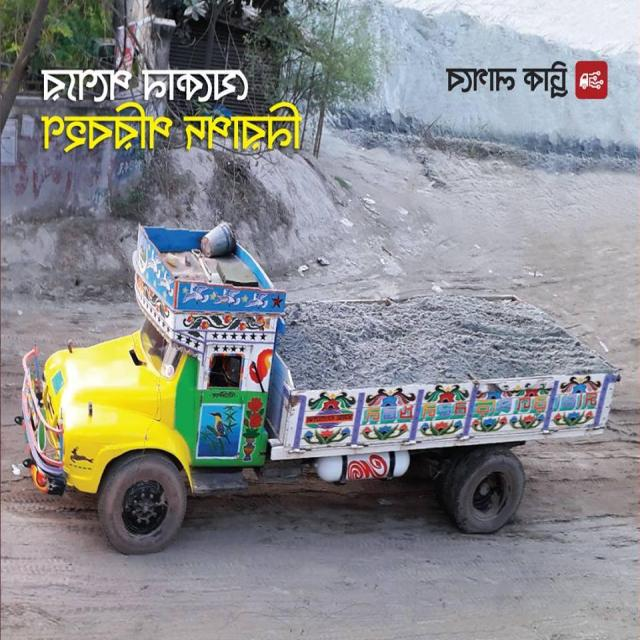truck: (0, 210, 626, 572)
